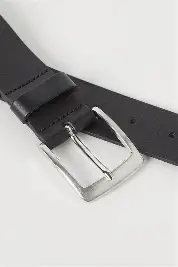sabuk_ada: (0, 61, 176, 170)
